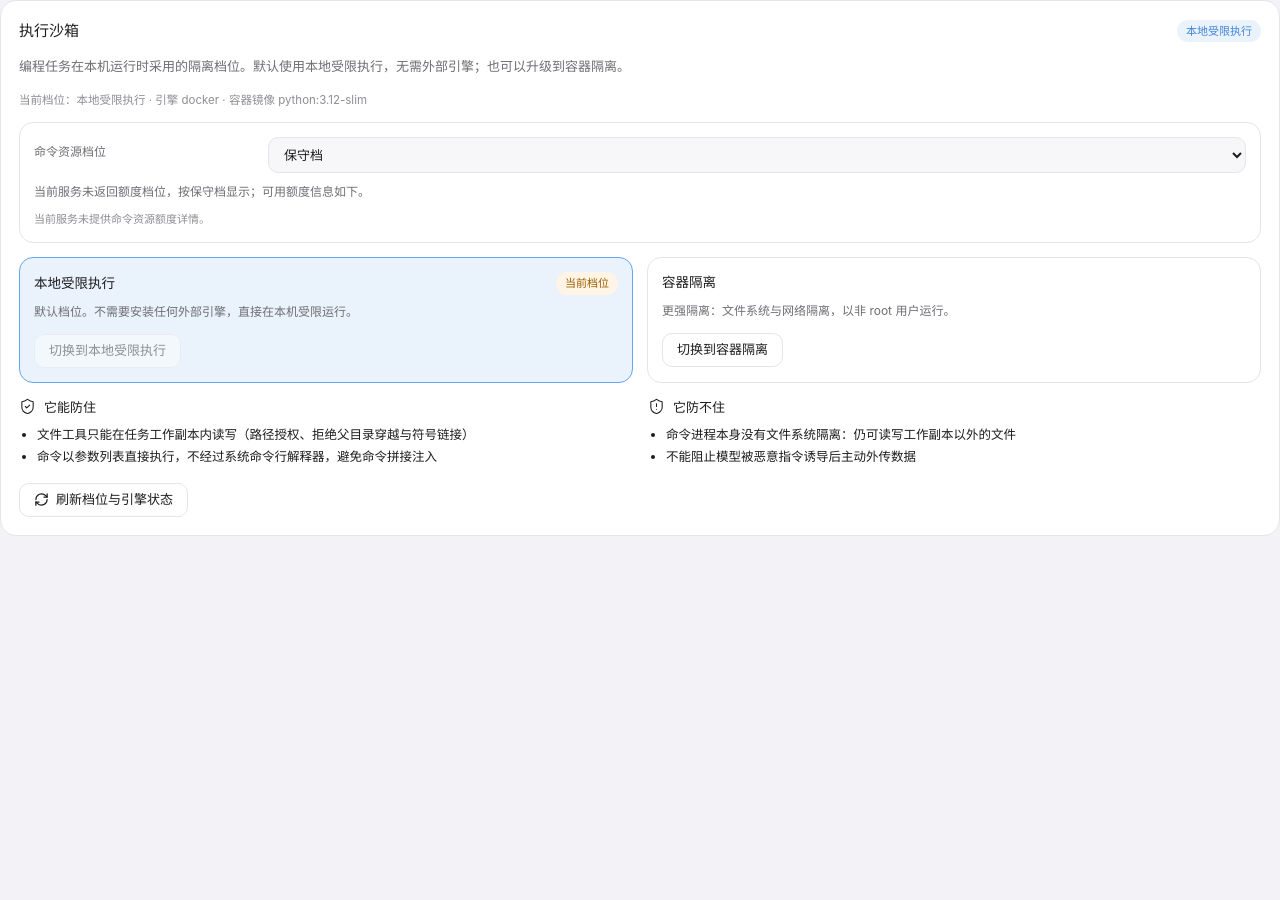
Test case: 切换失败时显示错误且不改动当前档位
This screenshot has width=1280, height=900.
Click the button "切换到容器隔离". click: point(722, 350)
box: [662,333,783,367]
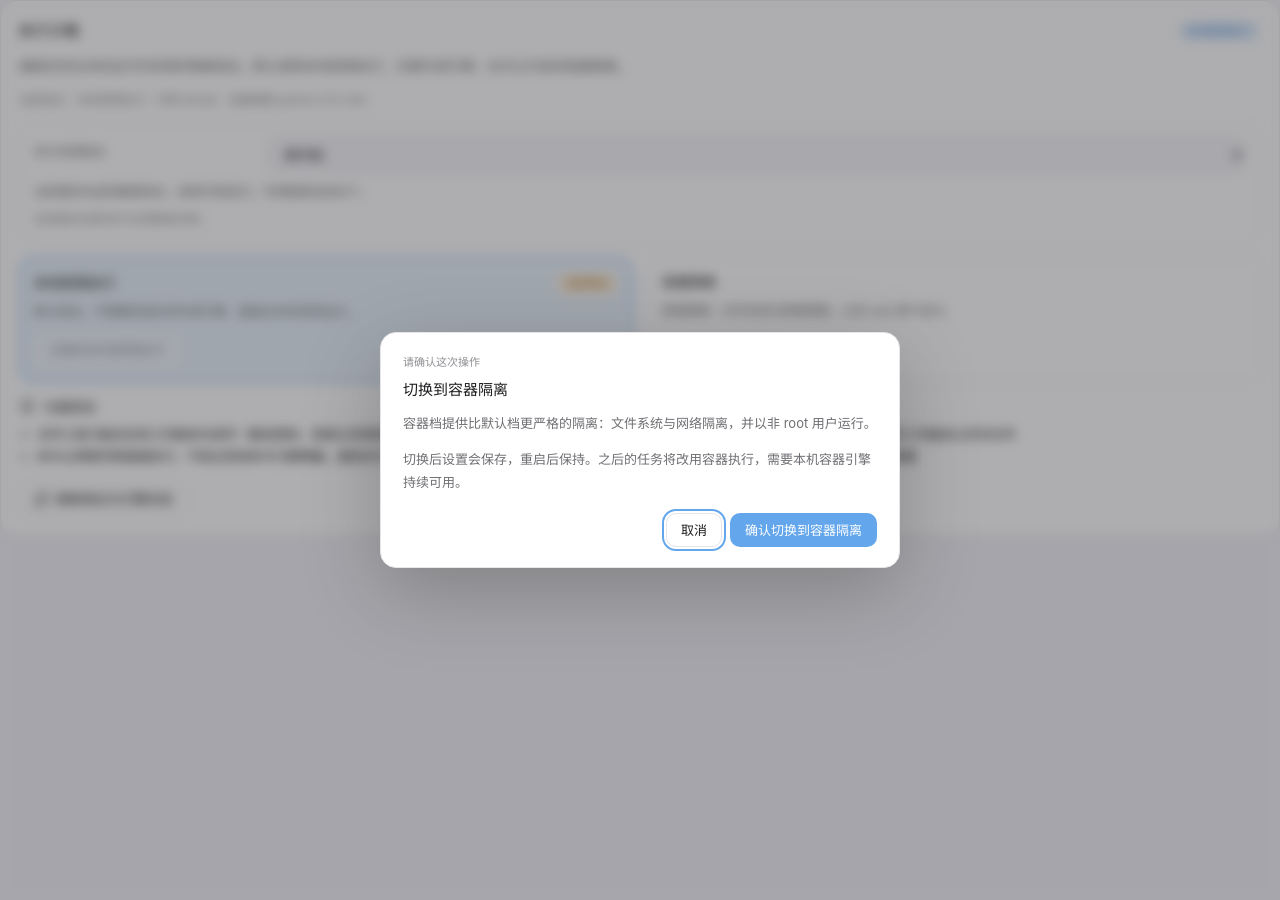
Click the button "确认切换到容器隔离". click: point(804, 530)
box: [730,513,877,547]
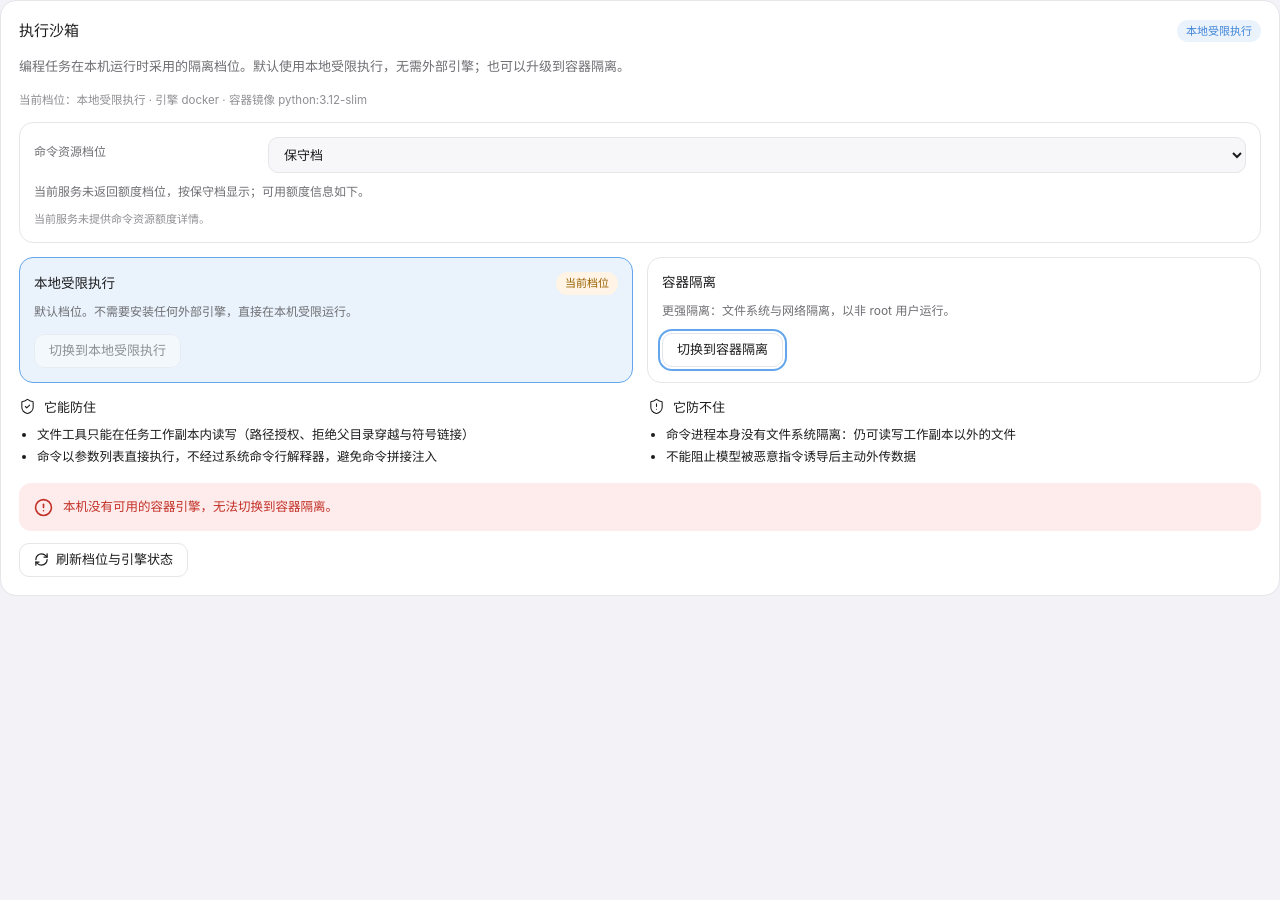
Expected: the button "切换到容器隔离" is enabled, [662,333,783,367]
Expected: the message shows "无法切换到容器隔离", [63,499,338,514]
